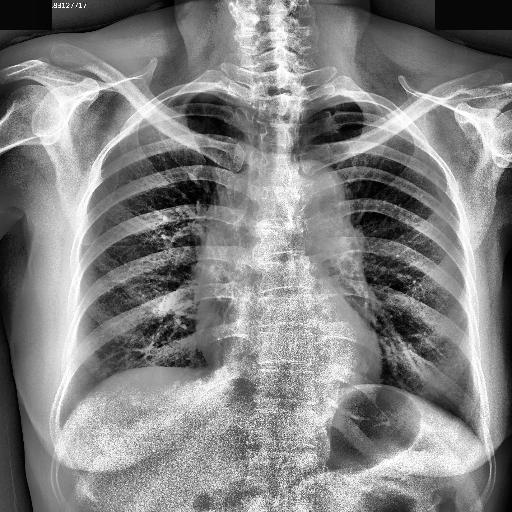0- Aortic enlargement: (276, 161, 350, 236), (288, 160, 354, 230), (286, 159, 348, 219)
